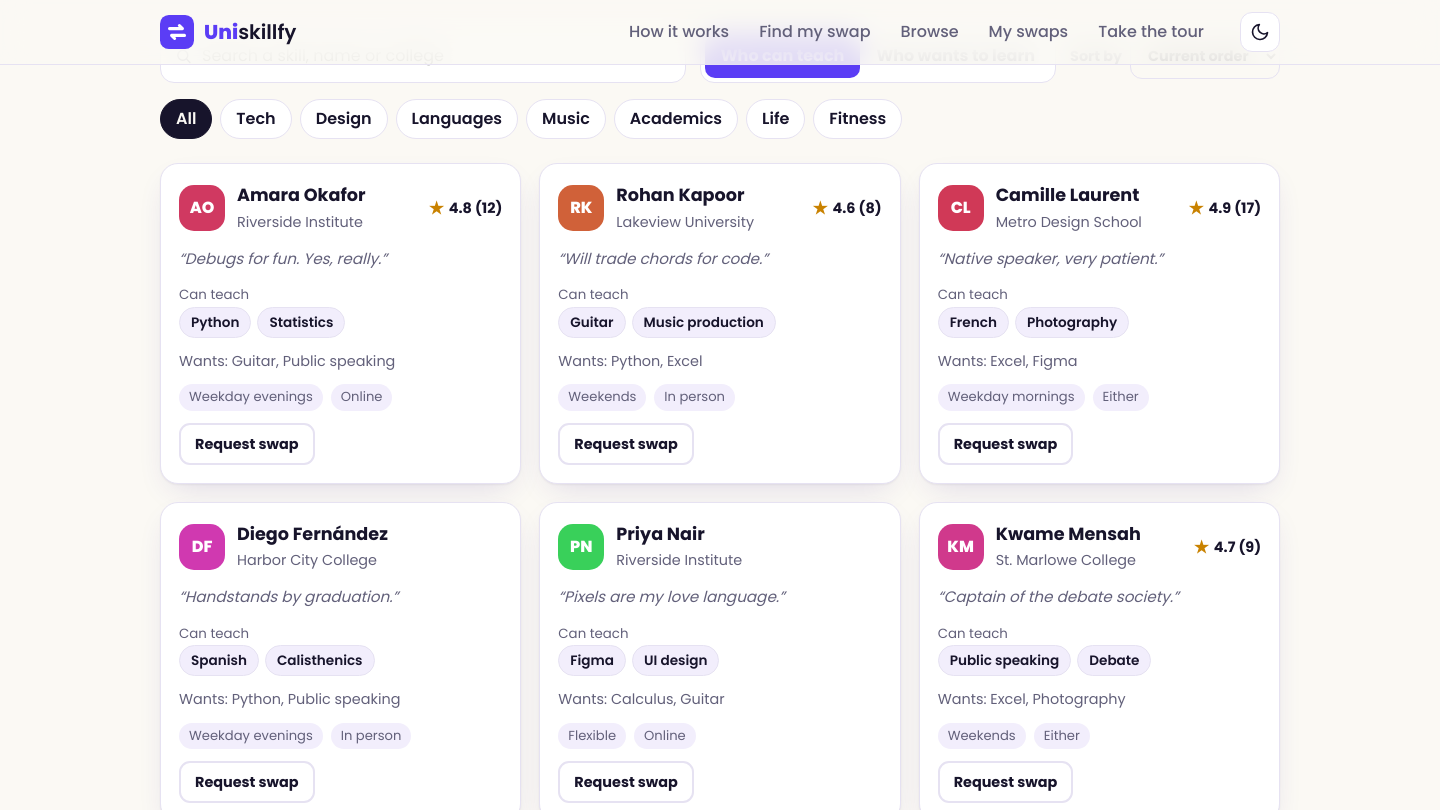
app flow › asks you to add skills before requesting a swap
This screenshot has width=1440, height=810.
(page scrolled)
What coordinates should you click on to do the following:
click the button "Request swap" below "Guitar, Public speaking"
I would click on:
 (247, 444)
Its box is [179,423,314,465].
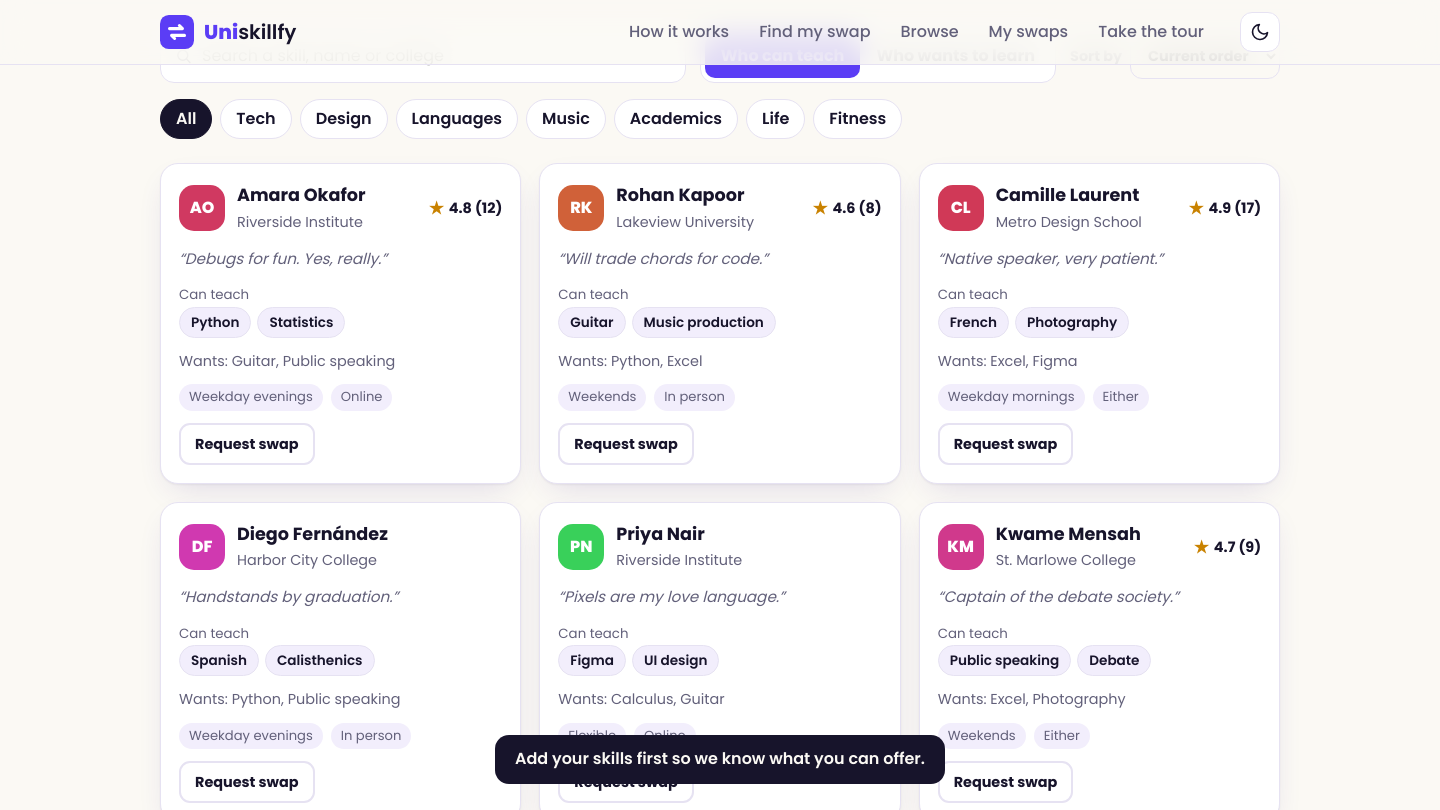
Expected: the message shows "Add your skills first", [515,747,925,770]
